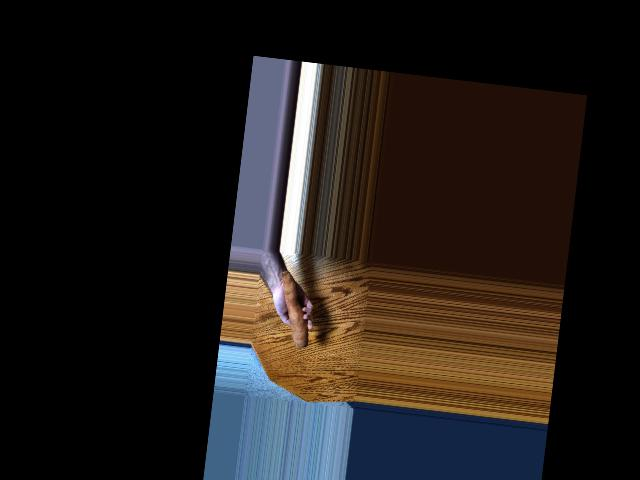sweet_potato: (272, 272, 317, 350)
